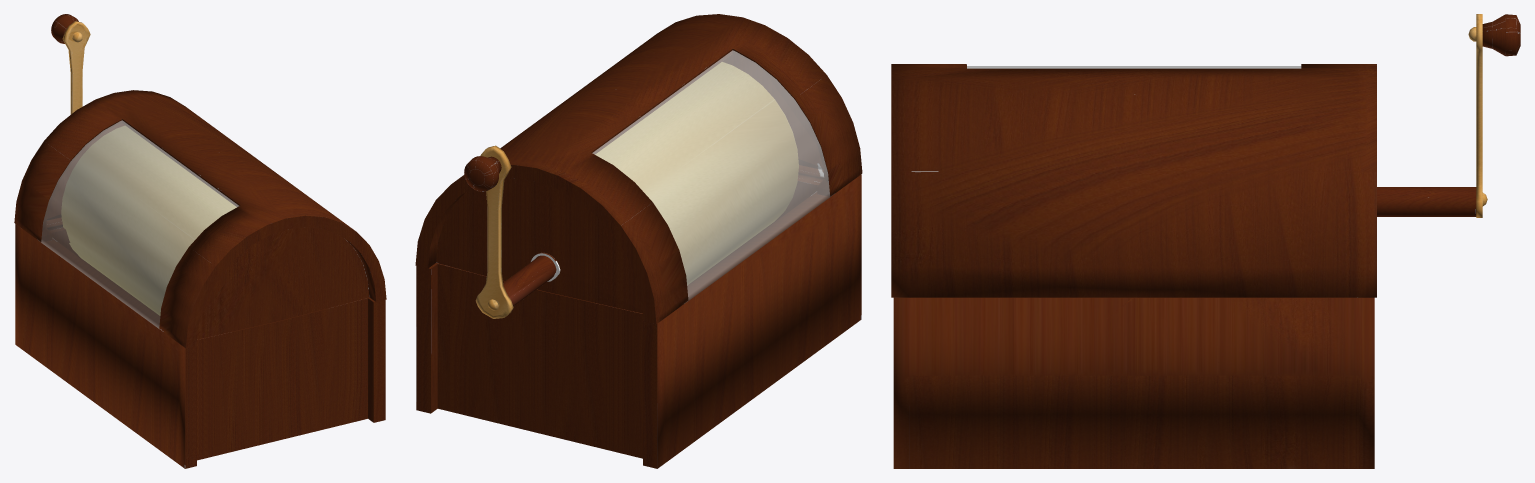
File: MusicBox.fbx
3 views of the same model, side by side, from view 1: azimuth 30°, elevation 25°; view 2: azimuth 150°, elevation 25°; view 3: azimuth 270°, elevation 25° (orthographic). The views are drawn at different scales.
Visible parts, largest first — view 1: Box, Cap, Glass, Drumm, Handle, HandleWood; view 2: Box, Cap, Glass, Drumm, Handle, Hand, HandleWood; view 3: Cap, Box, Hand, Handle, HandleWood, Glass.
Boxes of the visible parts, box(x1,y1,x2,y2) form: Box: box(15, 224, 385, 468); Cap: box(14, 90, 386, 348); Glass: box(41, 120, 238, 328); Drumm: box(61, 126, 236, 315); Handle: box(62, 21, 90, 114); HandleWood: box(51, 14, 78, 43); Box: box(416, 174, 861, 468); Cap: box(415, 14, 862, 324); Glass: box(592, 50, 830, 300); Drumm: box(595, 62, 798, 284); Handle: box(475, 145, 513, 318); Hand: box(503, 255, 556, 306); HandleWood: box(464, 156, 501, 191); Cap: box(891, 64, 1376, 297); Box: box(893, 297, 1374, 468); Hand: box(1377, 187, 1476, 216); Handle: box(1468, 14, 1487, 217); HandleWood: box(1482, 14, 1520, 56); Glass: box(967, 66, 1301, 68).
Size of the model in its own units: 146 by 189 by 281.
7 materials, 6 textured.
